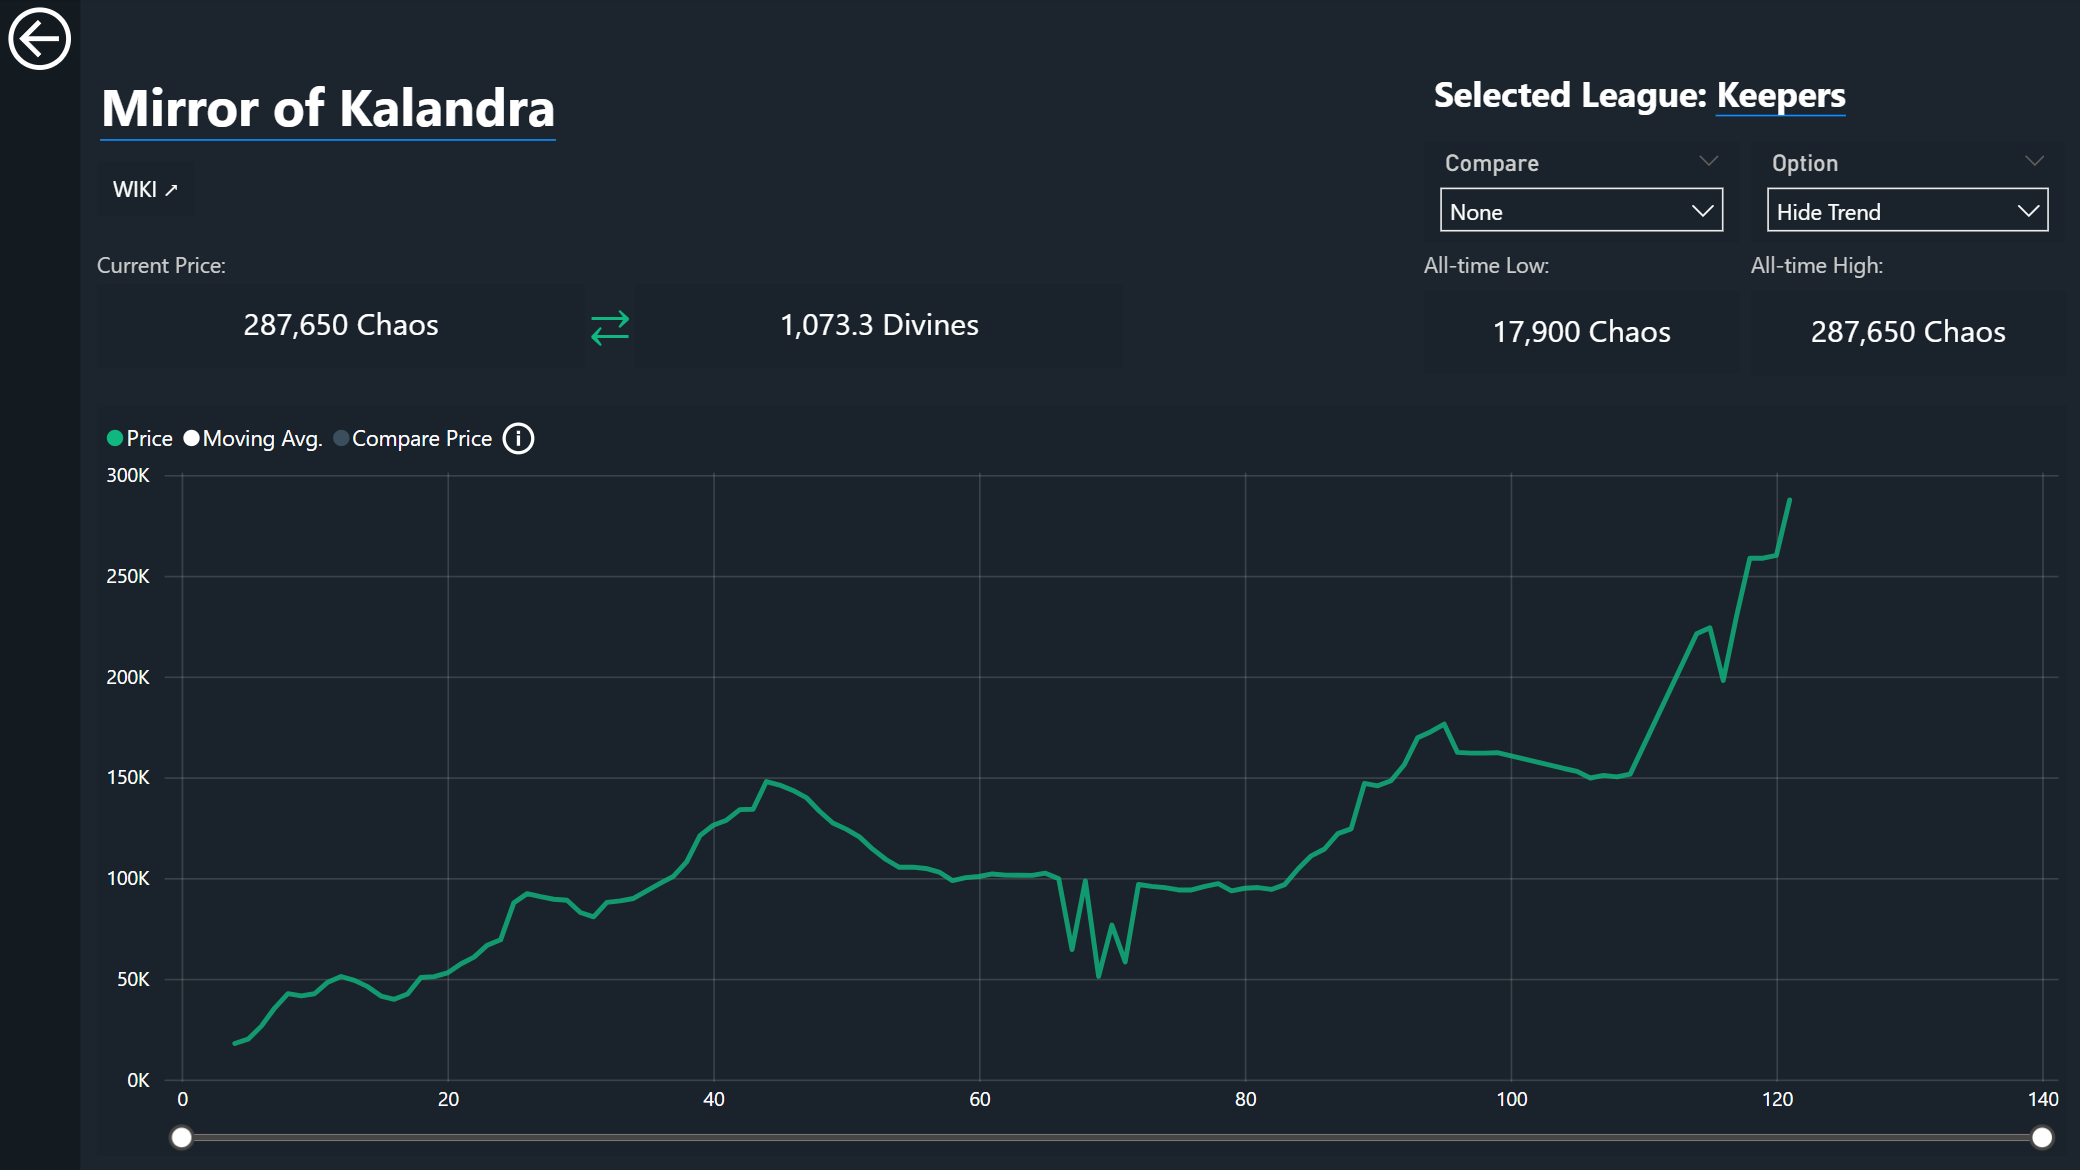

The dashboard page shown, as its layout file describes it:
{"tool":"powerbi","page":{"name":"Details","canvas":[1280,720],"ordinal":1},"visuals":[{"type":"shape","box":[0,0,50,720],"z":0},{"type":"actionButton","title":"Return","box":[0,0,50,50],"z":2000},{"type":"card","title":"Price in Chaos","fields":{"Values":["Measure Table.Detail Card (Chaos Price)"]},"box":[60,175.7,300,52.1],"z":3000},{"type":"card","title":"Price in Divines","fields":{"Values":["Measure Table.Detail Card (Divine Price)"]},"box":[390.7,175.7,300,52.1],"z":4000},{"type":"lineChart","title":"Graph","fields":{"Category":["dleagueday.day_index"],"Y":["Measure Table.Current Price (Chaos)","Measure Table.Dynamic Moving Average","Measure Table.Compare Price (Chaos)"]},"box":[60,250,1210,460.7],"z":5000},{"type":"slicer","title":"Compare Leagues","fields":{"Values":["CompareLeague.league_name"]},"box":[875.1,88.2,194,61.7],"z":6000},{"type":"card","title":"Price in Chaos","fields":{"Values":["Measure Table.Lowest Price (Display)"]},"box":[875.7,180,193.6,51.4],"z":7000},{"type":"card","title":"Price in Chaos","fields":{"Values":["Measure Table.Highest Price (Display)"]},"box":[1076.4,180,193.6,52.1],"z":8000},{"type":"slicer","fields":{"Values":["ToggleTrend.Option"]},"box":[1076.5,88.2,193.2,61.7],"z":9000},{"type":"actionButton","box":[60,100,60,33.6],"z":10000},{"type":"textbox","box":[60,38.7,806.4,65.7],"z":11000},{"type":"textbox","box":[60,150,201.4,26.4],"z":12000},{"type":"textbox","box":[360,172.1,30.7,60],"z":13000},{"type":"textbox","box":[875.7,150,193.6,26.4],"z":14000},{"type":"textbox","box":[1076.4,150,193.6,26.4],"z":15000},{"type":"textbox","box":[876.6,38.9,393.8,61],"z":16000},{"type":"actionButton","box":[304.6,256.3,28.8,28.8],"z":17000}]}

Visuals, with their boxes in screenshot pixels (x1, y1, x2, y2), scaled from the page's 1280x720 canvas onto the 2080x1170 screenshot:
shape: bbox=(0, 0, 81, 1169)
"Return" actionButton: bbox=(0, 0, 81, 81)
"Price in Chaos" card: bbox=(98, 286, 585, 370)
"Price in Divines" card: bbox=(635, 286, 1122, 370)
"Graph" lineChart: bbox=(98, 406, 2064, 1155)
"Compare Leagues" slicer: bbox=(1422, 143, 1737, 244)
"Price in Chaos" card: bbox=(1423, 292, 1738, 376)
"Price in Chaos" card: bbox=(1749, 292, 2064, 377)
slicer - ToggleTrend.Option: bbox=(1749, 143, 2063, 244)
actionButton: bbox=(98, 162, 195, 217)
textbox: bbox=(98, 63, 1408, 170)
textbox: bbox=(98, 244, 425, 287)
textbox: bbox=(585, 280, 635, 377)
textbox: bbox=(1423, 244, 1738, 287)
textbox: bbox=(1749, 244, 2064, 287)
textbox: bbox=(1424, 63, 2064, 162)
actionButton: bbox=(495, 416, 542, 463)
